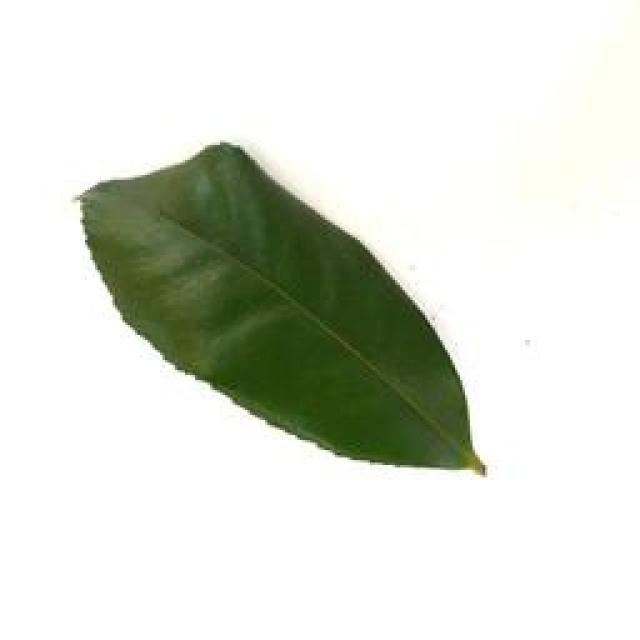Healthy: (59, 140, 507, 492)
